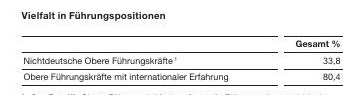table: (0, 0, 354, 95)
